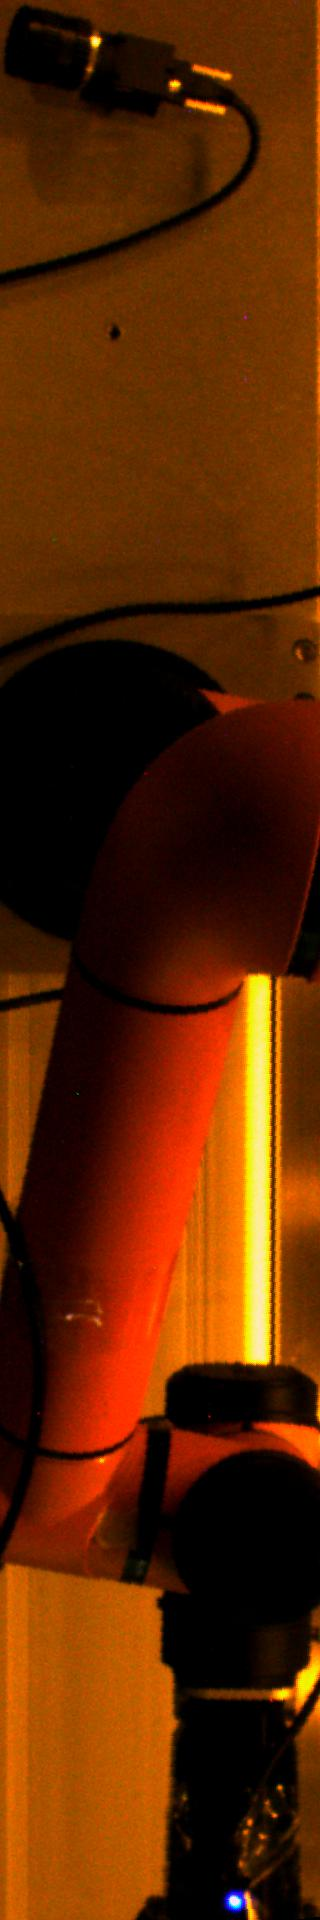keyPoint_1: (219, 1884, 250, 1915)
keyPoint_2: (99, 320, 129, 349)
